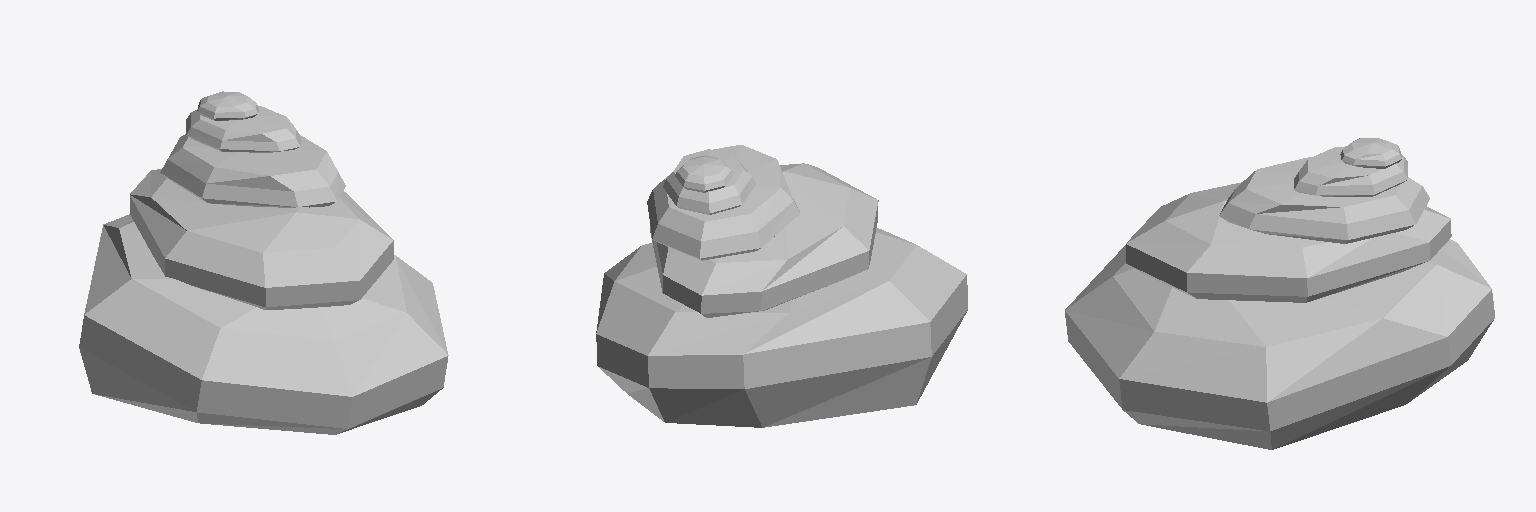
Rendered from Rock3_low.obj.
3 renders of one model, left to right at view 1: azimuth 30°, elevation 25°; view 2: azimuth 150°, elevation 25°; view 3: azimuth 270°, elevation 25°, orthographic.
Parts seen in each view (by area): view 1: pCylinder22; view 2: pCylinder22; view 3: pCylinder22.
Boxes of the visible parts, x1=… form: pCylinder22: x1=79, y1=91, x2=448, y2=434; pCylinder22: x1=596, y1=145, x2=967, y2=427; pCylinder22: x1=1065, y1=138, x2=1494, y2=449.
Size of the model in its own units: 26.67 by 18.16 by 29.2.